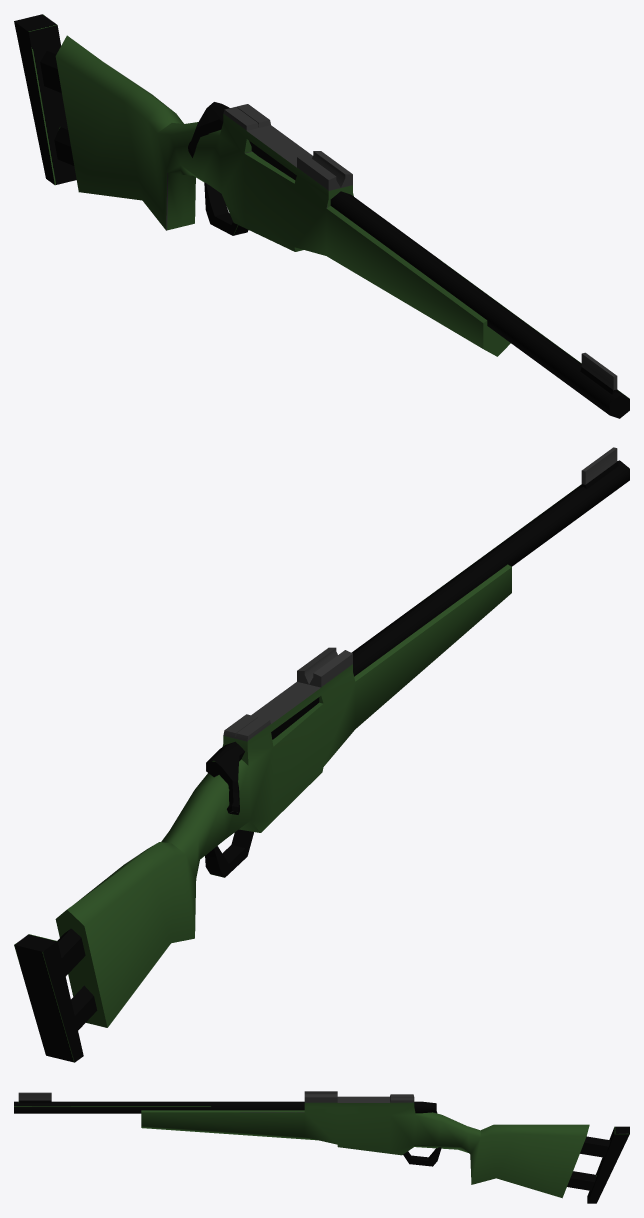
File: sniper1.glb
The picture shows the model from 3 angles, top to bottom: view 1: azimuth 30°, elevation 25°; view 2: azimuth 150°, elevation 25°; view 3: azimuth 270°, elevation 25°; orthographic projection. The views are drawn at different scales.
Visible parts, largest first — view 1: Cube; view 2: Cube; view 3: Cube.
Boxes of the visible parts, <box> form: Cube: <box>14,14,629,418</box>; Cube: <box>14,447,629,1062</box>; Cube: <box>14,1091,629,1203</box>.
Bounding box in the file's own units: 0.1168 × 0.5738 × 3.
1 material, 1 textured.
